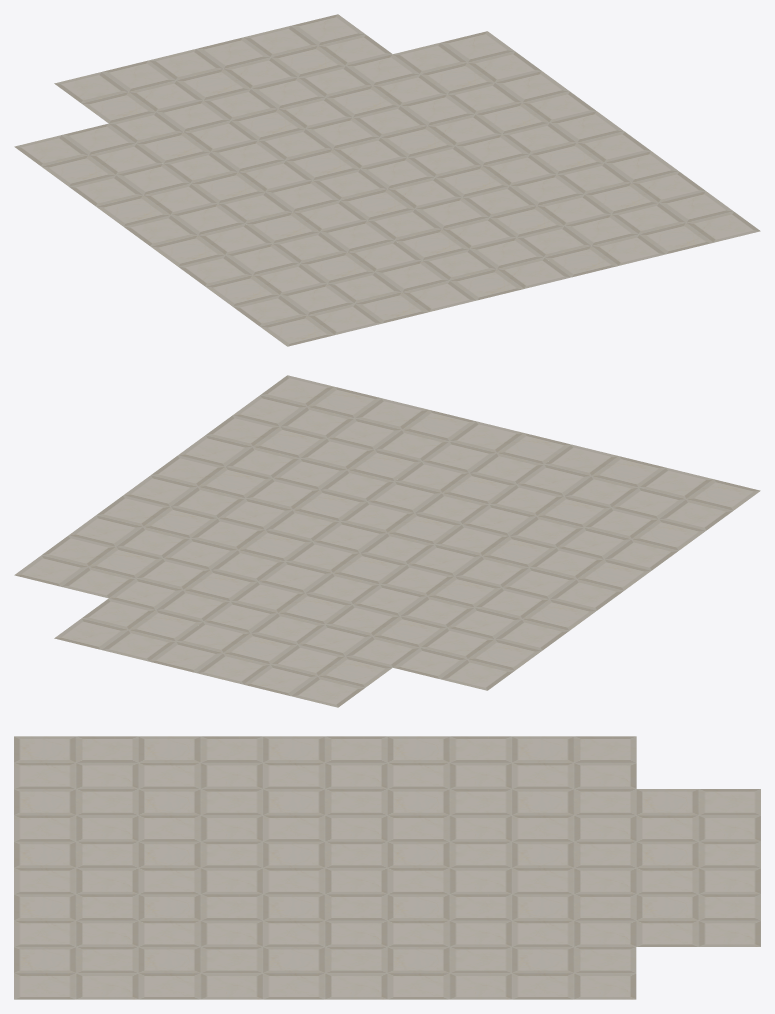
File: Homeworld_Interior_Fd_Room_R_Floor_01_Vo.fbx
3 renders of one model, top to bottom at view 1: azimuth 30°, elevation 25°; view 2: azimuth 150°, elevation 25°; view 3: azimuth 270°, elevation 25°, orthographic. The views are drawn at different scales.
Visible parts, largest first — view 1: Homeworld_Interior_Fd_Room_Floor_01_Vo (×28); view 2: Homeworld_Interior_Fd_Room_Floor_01_Vo (×28); view 3: Homeworld_Interior_Fd_Room_Floor_01_Vo (×28).
Part boxes in pixels (<box>): Homeworld_Interior_Fd_Room_Floor_01_Vo (×28): <box>14,14,760,346</box>; Homeworld_Interior_Fd_Room_Floor_01_Vo (×28): <box>14,375,760,707</box>; Homeworld_Interior_Fd_Room_Floor_01_Vo (×28): <box>14,736,760,999</box>.
Size of the model in its own units: 25 by 1.27e-06 by 30.
1 material, 1 textured.
